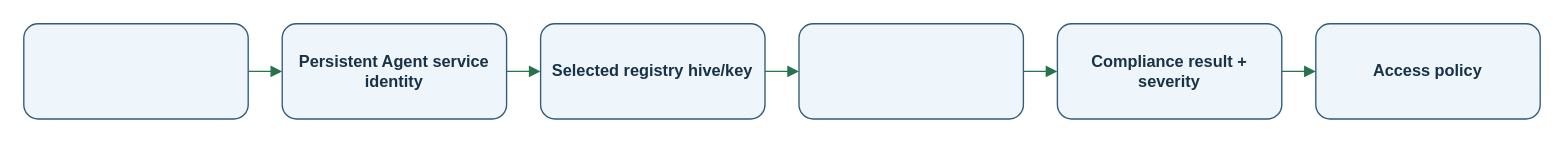
Image size: 1564x143. Some labels were removed from this diagram. The shapes that lost their labels are listed below. From the top down, each one's centre as x and y in pixels, then its label:
point 135,70: FortiNAC-F scan definition
point 910,70: Match / prohibit / set action
